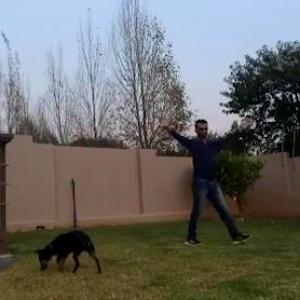takeoff: (128, 116, 244, 243)
